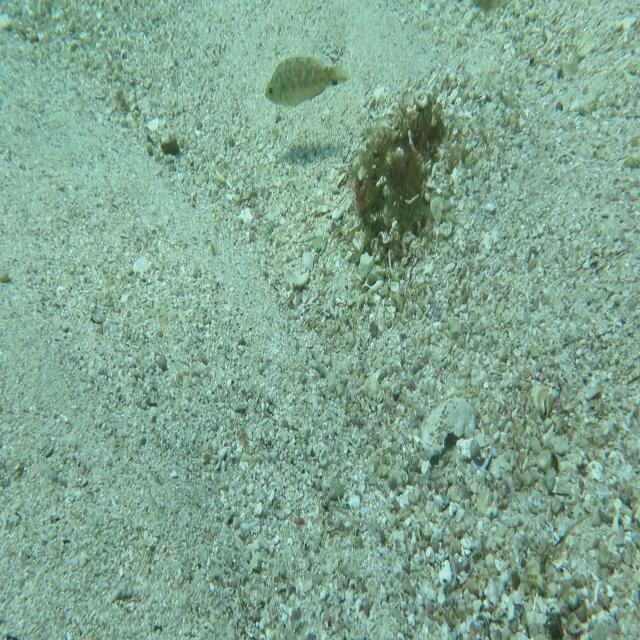SA: (261, 51, 351, 110)
core_nest: (400, 112, 435, 148)
nest: (347, 88, 447, 278)
vegetation: (158, 130, 180, 162), (116, 87, 132, 118), (471, 0, 502, 14)
